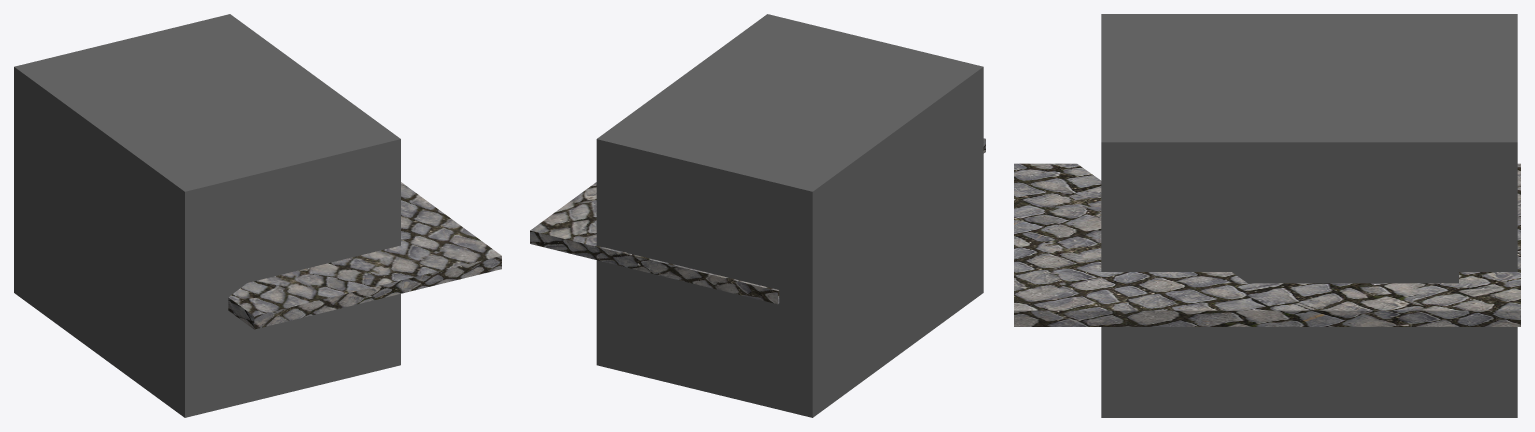
Rendered from Seaside.dae.
The picture shows the model from 3 angles, left to right: view 1: azimuth 30°, elevation 25°; view 2: azimuth 150°, elevation 25°; view 3: azimuth 270°, elevation 25°; orthographic projection. The views are drawn at different scales.
Visible parts, largest first — view 1: Approx_Approximation, Mesh_Harbour; view 2: Approx_Approximation, Mesh_Harbour; view 3: Approx_Approximation, Mesh_Harbour.
Part boxes in pixels (x1,y1,x2,y2): Approx_Approximation: [14, 14, 400, 417]; Mesh_Harbour: [228, 182, 501, 329]; Approx_Approximation: [596, 14, 983, 417]; Mesh_Harbour: [530, 138, 985, 304]; Approx_Approximation: [1101, 14, 1517, 417]; Mesh_Harbour: [1014, 163, 1520, 326].
Bounding box in the file's own units: 22.06 × 16.95 × 28.26.
